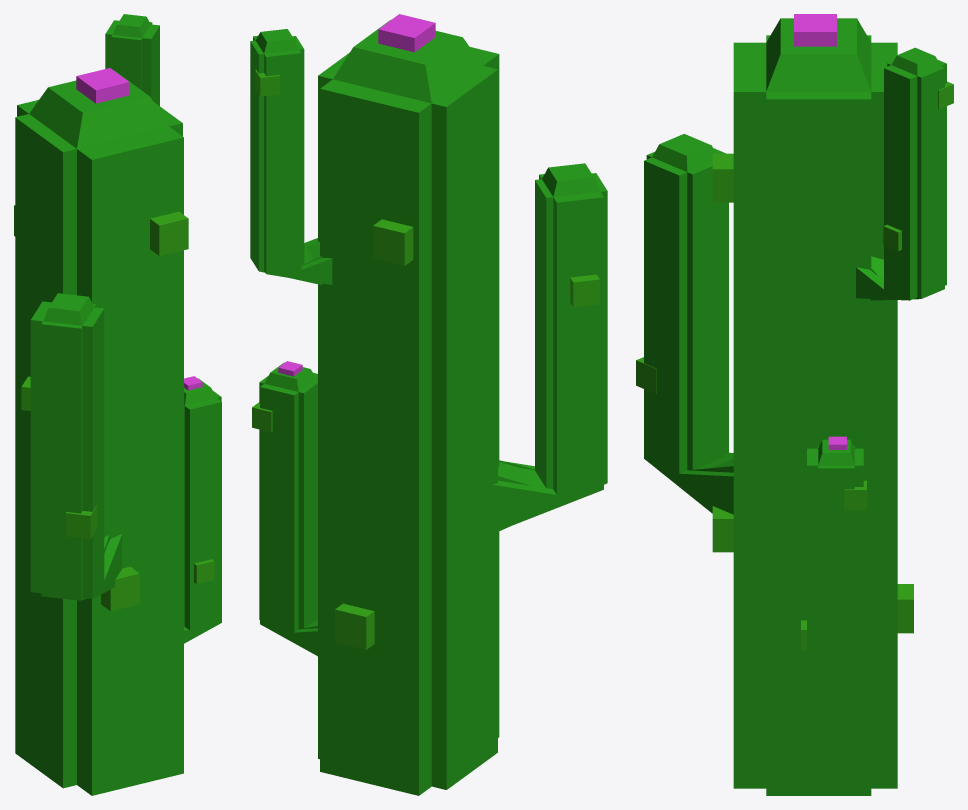
The model's file is new_cactus03.fbx.
3 renders of one model, left to right at view 1: azimuth 30°, elevation 25°; view 2: azimuth 150°, elevation 25°; view 3: azimuth 270°, elevation 25°, orthographic. The views are drawn at different scales.
Parts seen in each view (by area): view 1: Cube; view 2: Cube; view 3: Cube.
Boxes of the visible parts, box(x1,y1,x2,y2) form: Cube: box(14, 14, 221, 795); Cube: box(250, 14, 607, 795); Cube: box(636, 14, 953, 795).
Size of the model in its own units: 74.49 by 194 by 74.4.
